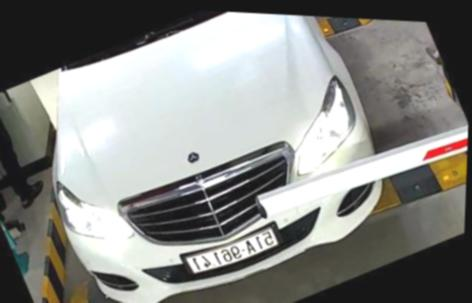License_Plate: (170, 218, 287, 286)
